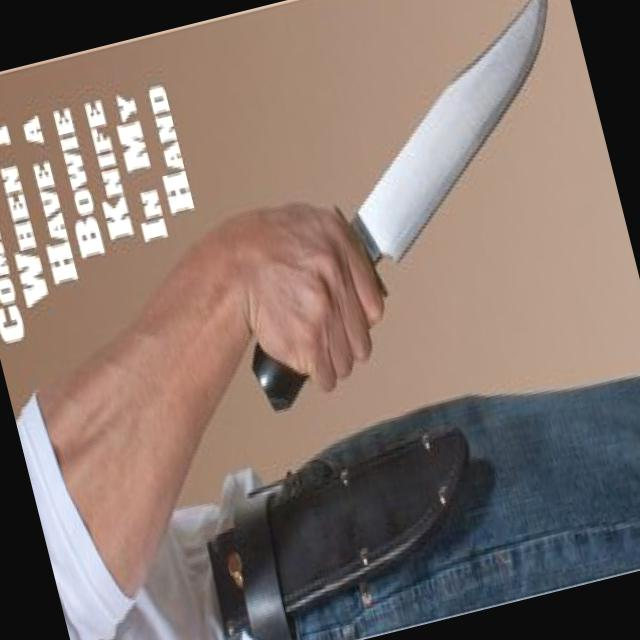knife: (228, 0, 638, 408)
